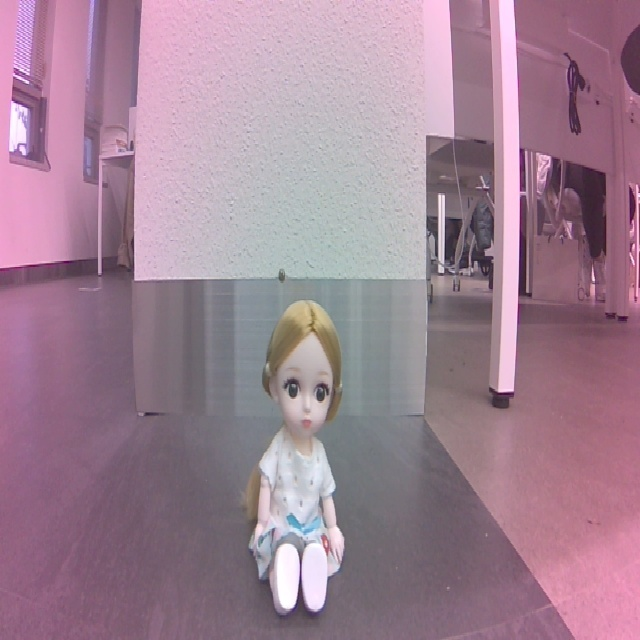장애물: (245, 295, 349, 626)
